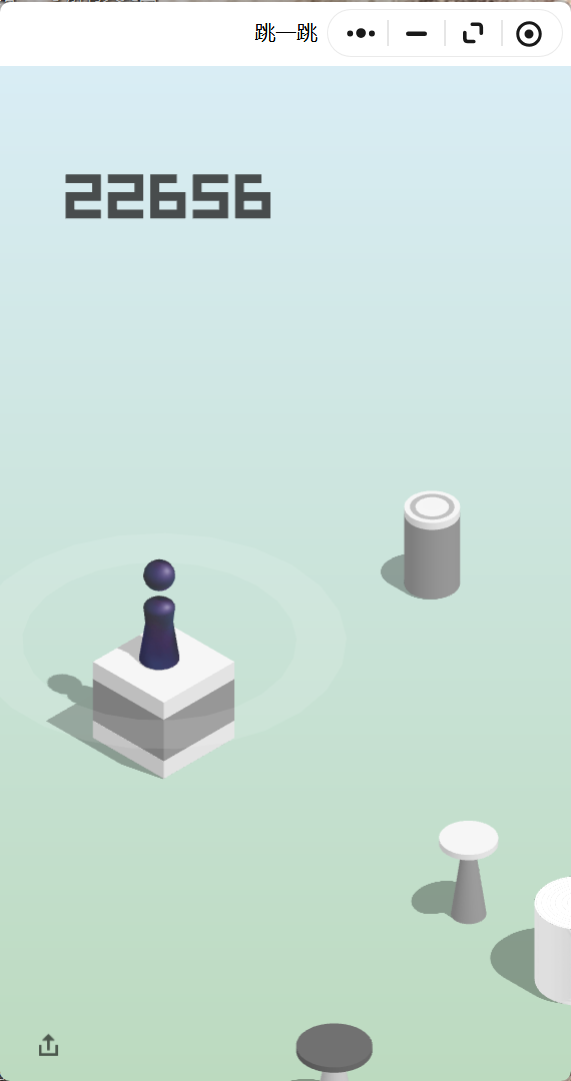piece: (144, 559, 174, 667)
target: (404, 491, 461, 523)
